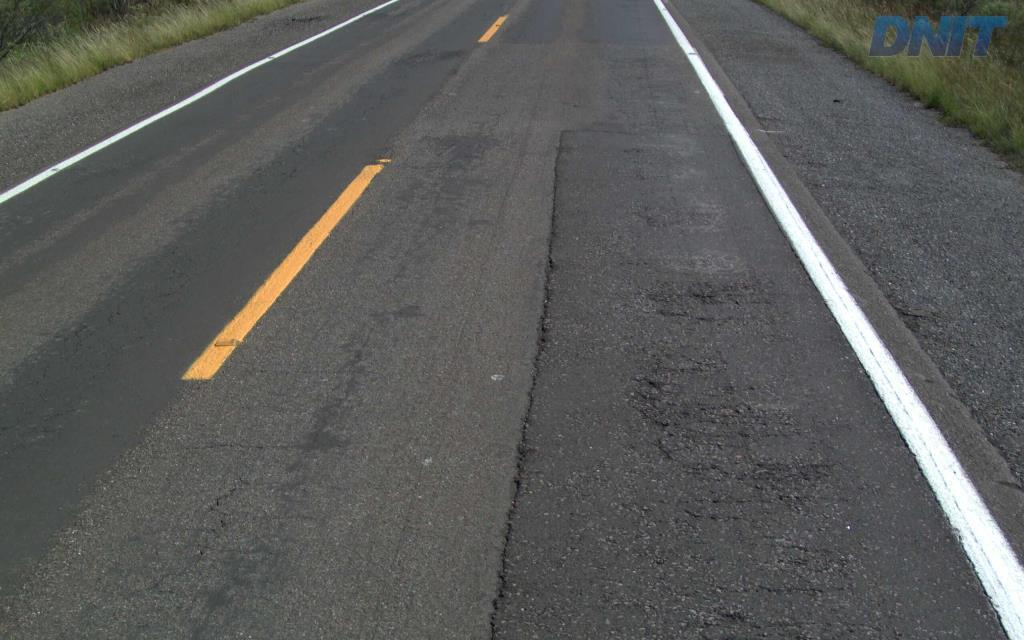crack: (489, 239, 558, 639), (753, 461, 830, 491), (627, 390, 670, 431)
